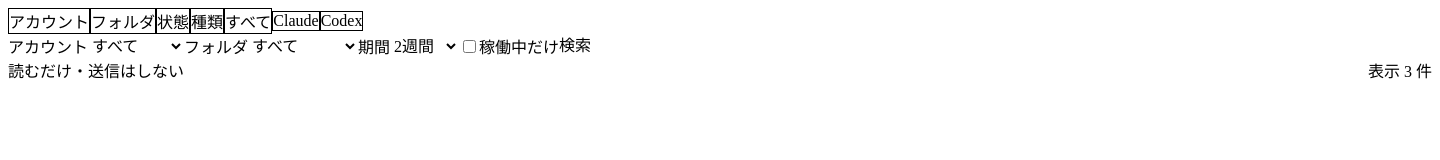
Test case: FilterBar › 『表示 N 件』が selectFilteredSessions の件数を表示する（合成 3 件を tool=codex で絞ると 1 件）
The width and height of the screenshot is (1440, 160).
Expected: the text "表示 3 件" is shown, [1368,58,1432,82]
Click the button "Codex": [342, 21] box [320,11,363,31]
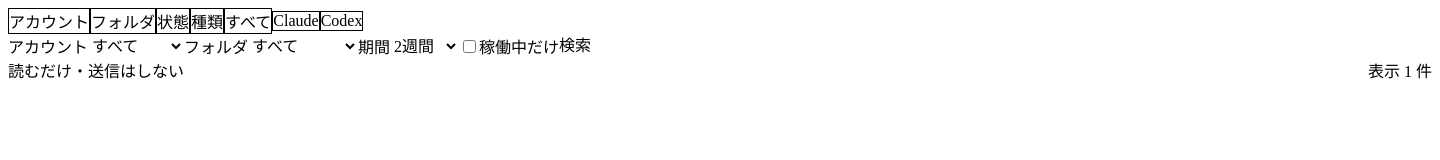
Expected: the text "表示 1 件" is shown, [1368,58,1432,82]
